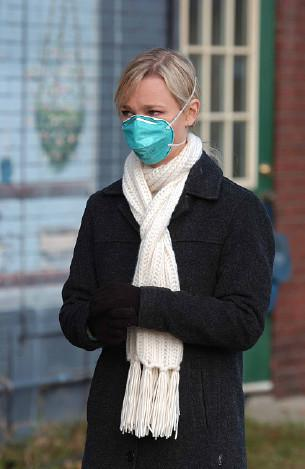OK: (122, 92, 178, 165)
